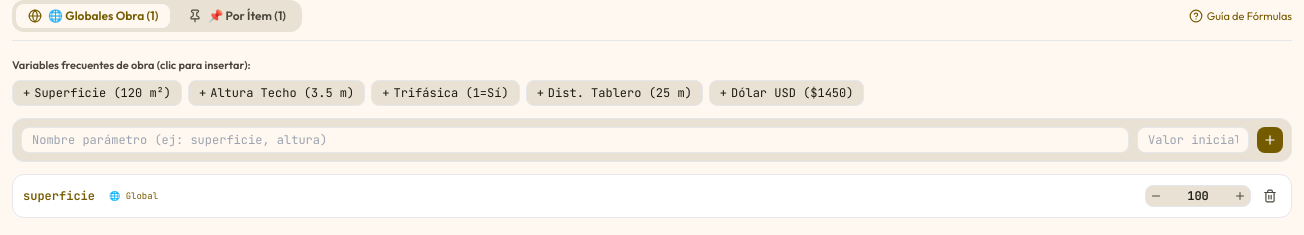
ProjectParametersTuningSection › permite alternar entre nivel global y nivel partidas
This screenshot has width=1304, height=235.
Expected: the text "superficie" is shown, left=23, top=188, right=95, bottom=204
Cambiar a nivel por ítem
Click the button "📌 Por Ítem (1)" at {"x": 237, "y": 16}, box left=176, top=4, right=298, bottom=28
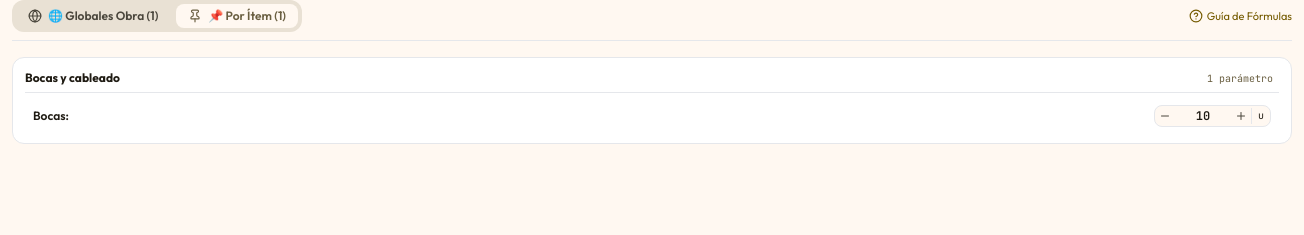
Result: the text "Bocas y cableado" is shown at left=25, top=70, right=120, bottom=86
Result: the text "Bocas:" is shown at left=33, top=108, right=69, bottom=124
